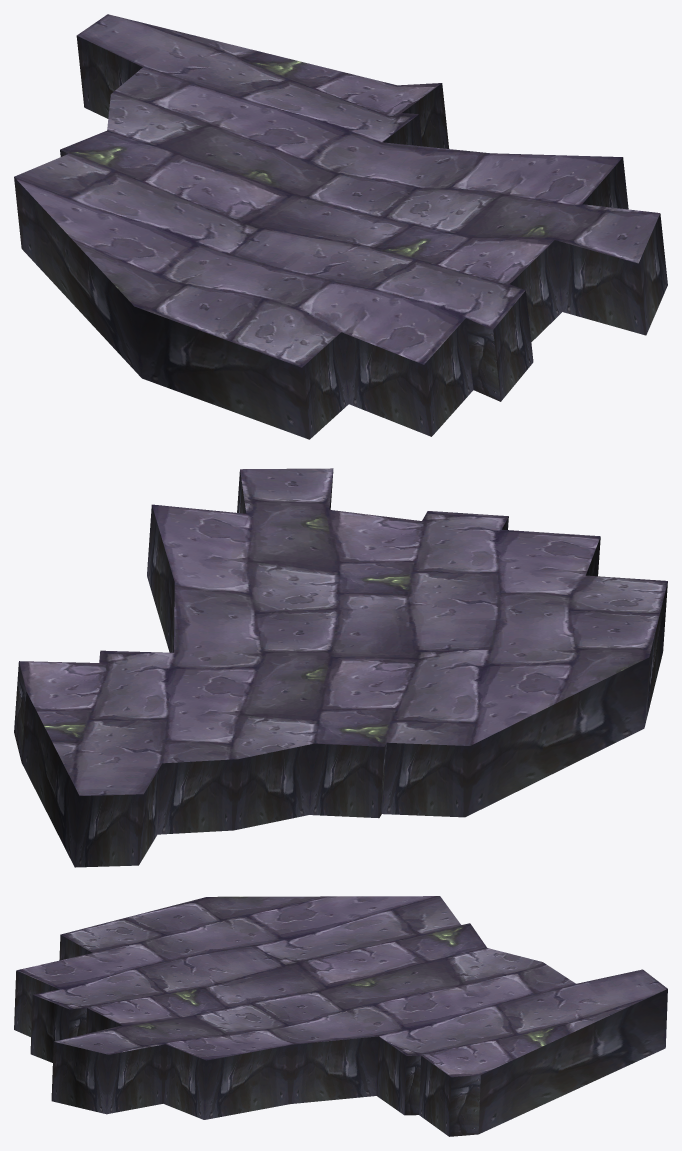
Rendered from nd_crashednecropolis_debri_02.obj.
3 views of the same model, one above another, from view 1: azimuth 30°, elevation 25°; view 2: azimuth 150°, elevation 25°; view 3: azimuth 270°, elevation 25° (orthographic). The views are drawn at different scales.
Visible parts, largest first — view 1: Geoset1, Geoset0; view 2: Geoset1, Geoset0; view 3: Geoset1, Geoset0.
Part boxes in pixels (<box>): Geoset1: <box>14,14,660,367</box>; Geoset0: <box>14,36,667,439</box>; Geoset1: <box>19,468,667,795</box>; Geoset0: <box>14,470,667,867</box>; Geoset1: <box>16,896,667,1077</box>; Geoset0: <box>14,934,667,1136</box>.
Bounding box in the file's own units: 34.49 × 7.72 × 50.15.
Materials: 2 (2 with a texture image).
